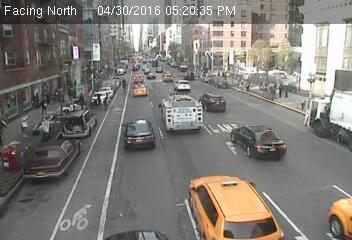neg: (122, 115, 158, 162), (148, 185, 180, 228), (233, 117, 264, 158), (295, 65, 324, 103), (157, 29, 185, 66), (300, 163, 327, 199), (181, 102, 204, 133), (89, 78, 111, 107), (43, 102, 64, 131), (58, 153, 78, 179), (196, 177, 215, 203), (131, 57, 150, 82), (80, 185, 98, 209), (236, 63, 253, 86)
